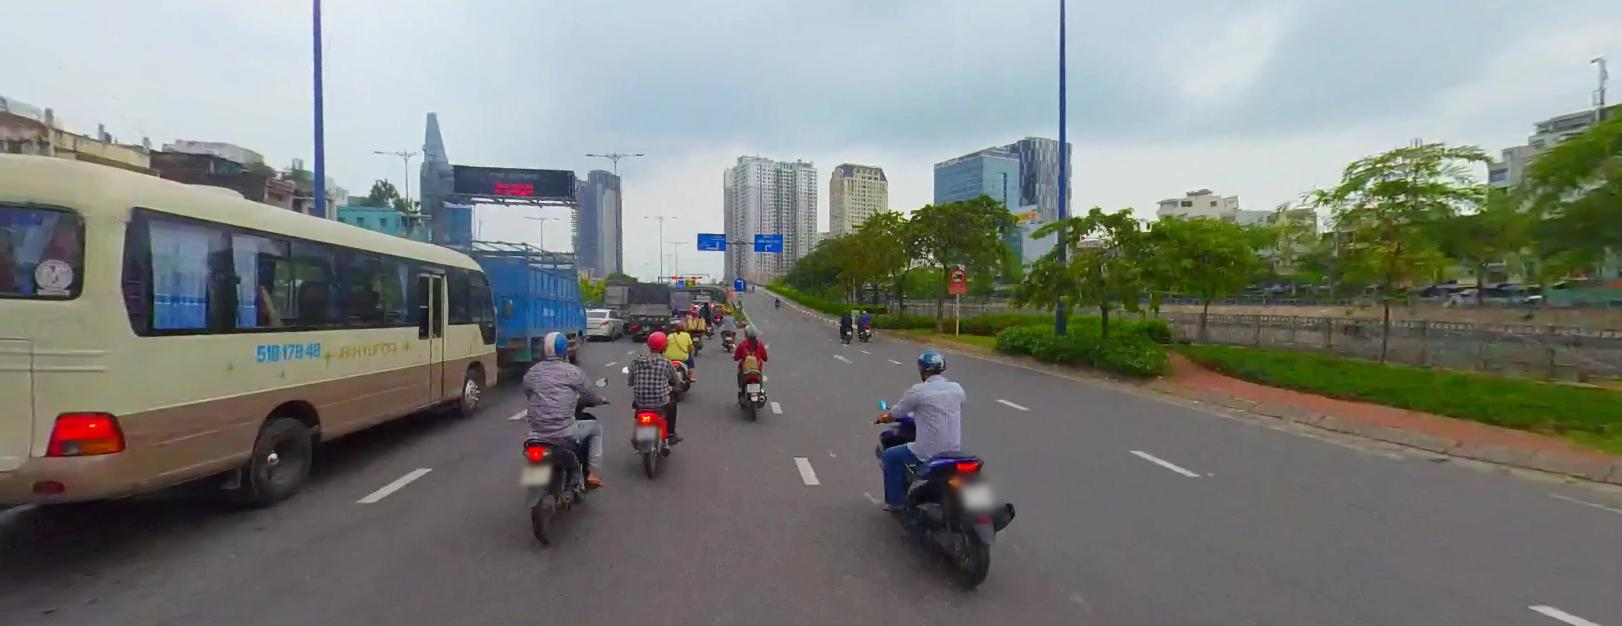Cam con lai: (949, 266, 964, 281)
Hieu lenh: (733, 275, 747, 288)
